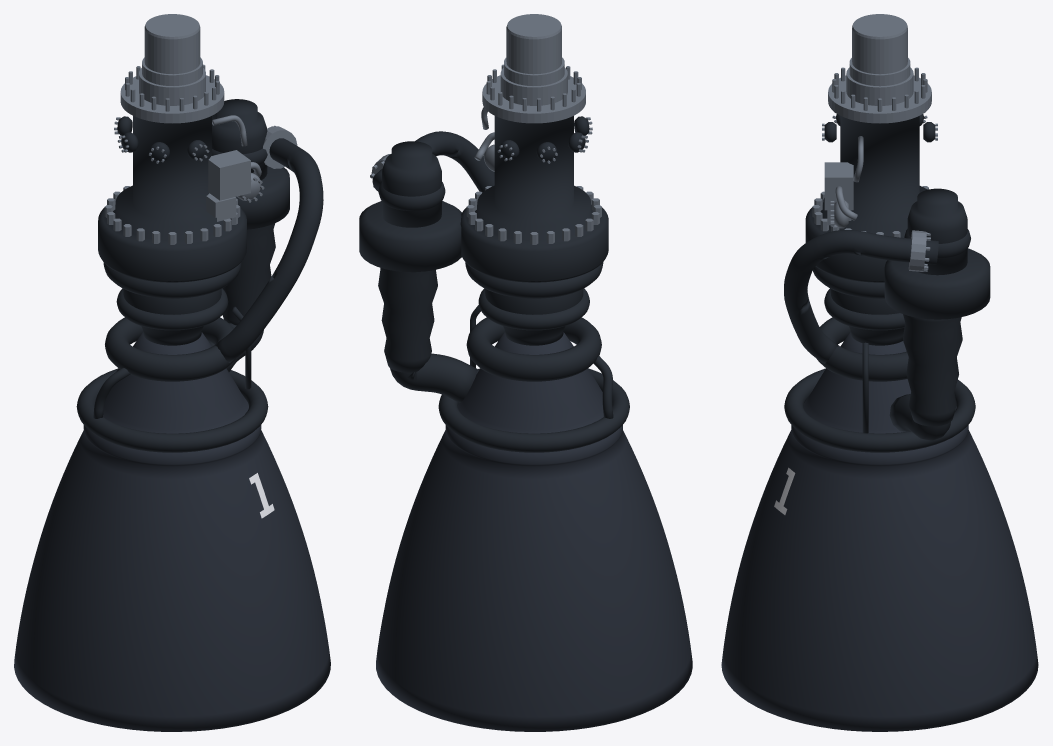
The model's file is raptor3.glb.
3 views of the same model, side by side, from view 1: azimuth 30°, elevation 25°; view 2: azimuth 150°, elevation 25°; view 3: azimuth 270°, elevation 25° (orthographic).
Visible parts, largest first — view 1: raptor3_nozzle, raptor3_powerhead, raptor3_s_pipe, raptor3_gimbal_cap, raptor3_nozzle_manifold, raptor3_throat_manifold, raptor3_ribbed_duct, raptor3_turbopump, raptor3_chamber, raptor3_top_flange, raptor3_ring_upper, raptor3_turbopump_housing (+7 smaller); view 2: raptor3_nozzle, raptor3_powerhead, raptor3_turbopump_housing, raptor3_gimbal_cap, raptor3_ribbed_duct, raptor3_throat_manifold, raptor3_nozzle_manifold, raptor3_turbopump, raptor3_ribbed_duct_elbow, raptor3_chamber, raptor3_top_flange, raptor3_ring_upper (+6 smaller); view 3: raptor3_nozzle, raptor3_powerhead, raptor3_s_pipe, raptor3_ribbed_duct, raptor3_turbopump_housing, raptor3_gimbal_cap, raptor3_nozzle_manifold, raptor3_turbopump, raptor3_throat_manifold, raptor3_top_flange, raptor3_chamber, raptor3_ring_chamber (+8 smaller).
Boxes of the visible parts, x1,y1,x2,y2 form: raptor3_nozzle: (14,332,330,731); raptor3_powerhead: (98,116,246,282); raptor3_s_pipe: (215,138,323,362); raptor3_gimbal_cap: (139,14,205,105); raptor3_nozzle_manifold: (76,368,268,452); raptor3_throat_manifold: (105,317,235,381); raptor3_ribbed_duct: (222,223,275,325); raptor3_turbopump: (212,99,267,180); raptor3_chamber: (123,289,221,345); raptor3_top_flange: (120,75,224,123); raptor3_ring_upper: (103,262,241,298); raptor3_turbopump_housing: (236,166,289,229); raptor3_nozzle: (376,332,692,731); raptor3_powerhead: (460,105,608,282); raptor3_turbopump_housing: (359,201,461,272); raptor3_gimbal_cap: (500,14,567,105); raptor3_ribbed_duct: (378,268,437,372); raptor3_throat_manifold: (466,317,601,381); raptor3_nozzle_manifold: (438,368,629,452); raptor3_turbopump: (382,141,441,227); raptor3_ribbed_duct_elbow: (390,353,477,402); raptor3_chamber: (485,289,583,345); raptor3_top_flange: (482,75,585,123); raptor3_ring_upper: (465,262,603,298); raptor3_nozzle: (721,332,1038,731); raptor3_powerhead: (805,116,927,282); raptor3_s_pipe: (784,230,938,363); raptor3_ribbed_duct: (903,314,962,426); raptor3_turbopump_housing: (884,248,990,319); raptor3_gimbal_cap: (846,14,913,105); raptor3_nozzle_manifold: (784,368,975,452); raptor3_turbopump: (907,188,967,275); raptor3_throat_manifold: (816,317,908,381); raptor3_top_flange: (828,75,931,123); raptor3_chamber: (830,289,904,345); raptor3_ring_chamber: (824,288,904,330).
Bounding box in the file's own units: 1.34 × 2.94 × 1.32.
